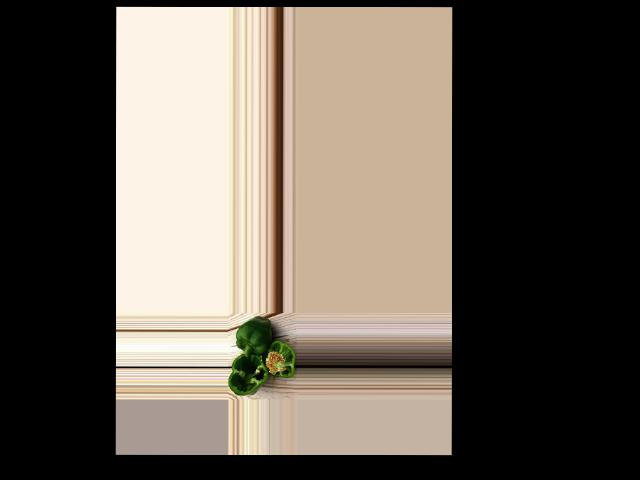bell_pepper: (262, 337, 295, 385)
